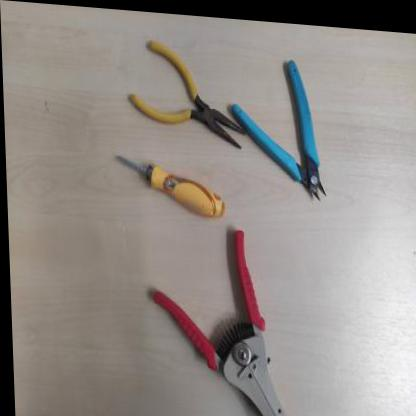Screwdriverrotation: (113, 150, 226, 219)
